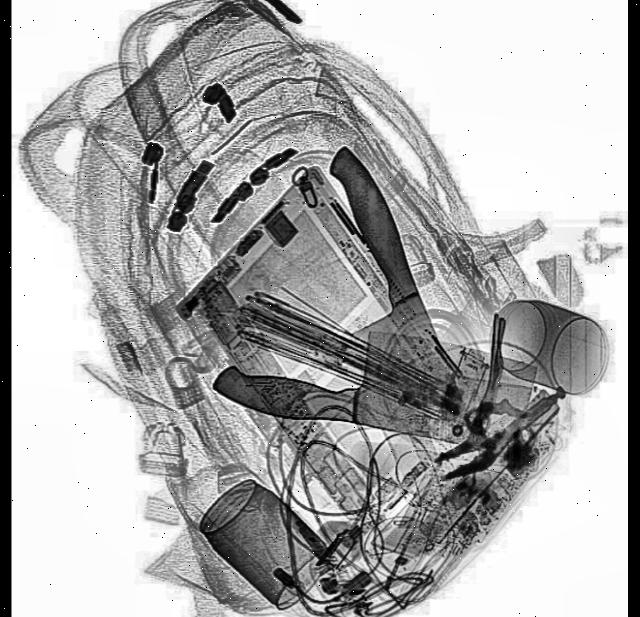Knife: (272, 138, 516, 538), (210, 303, 537, 458)
